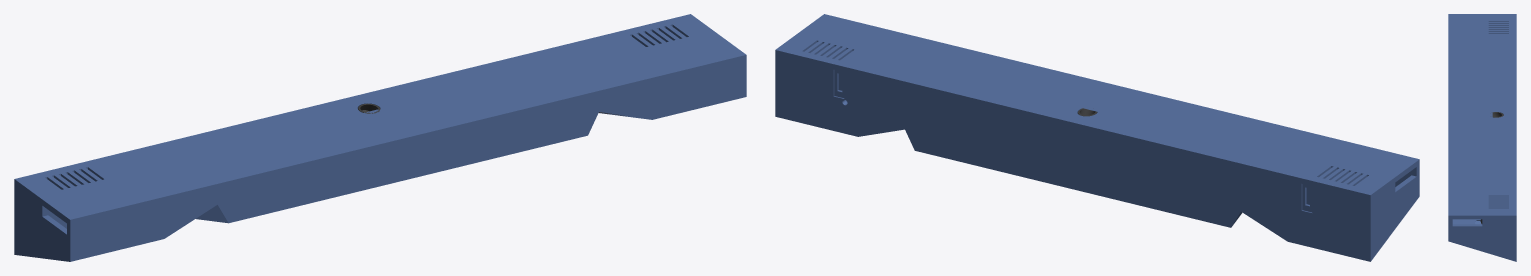
The model's file is robine-soundbar.glb.
3 views of the same model, side by side, from view 1: azimuth 30°, elevation 25°; view 2: azimuth 150°, elevation 25°; view 3: azimuth 270°, elevation 25° (orthographic). The views are drawn at different scales.
Visible parts, largest first — view 1: top, front, end_right, end_left, facet_return_R, facet_L; view 2: back, top, end_right, end_left; view 3: top, end_left, baffle, end_right, halo_pod.
Part boxes in pixels (bbox=[...]): top: bbox=[20, 15, 740, 224]; front: bbox=[76, 62, 740, 260]; end_right: bbox=[14, 177, 75, 261]; end_left: bbox=[685, 14, 746, 98]; facet_return_R: bbox=[196, 196, 231, 223]; facet_L: bbox=[596, 104, 653, 119]; back: bbox=[780, 56, 1365, 260]; top: bbox=[780, 15, 1413, 199]; end_right: bbox=[1365, 158, 1419, 261]; end_left: bbox=[775, 14, 828, 117]; top: bbox=[1448, 15, 1516, 213]; end_left: bbox=[1448, 214, 1516, 261]; baffle: bbox=[1452, 219, 1481, 224]; end_right: bbox=[1448, 14, 1516, 15]; halo_pod: bbox=[1492, 112, 1503, 117].
Size of the model in its own units: 1.4 by 0.15 by 0.2.
